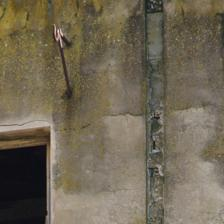Crack: (0, 41, 83, 106), (40, 17, 94, 98), (37, 5, 63, 21)
